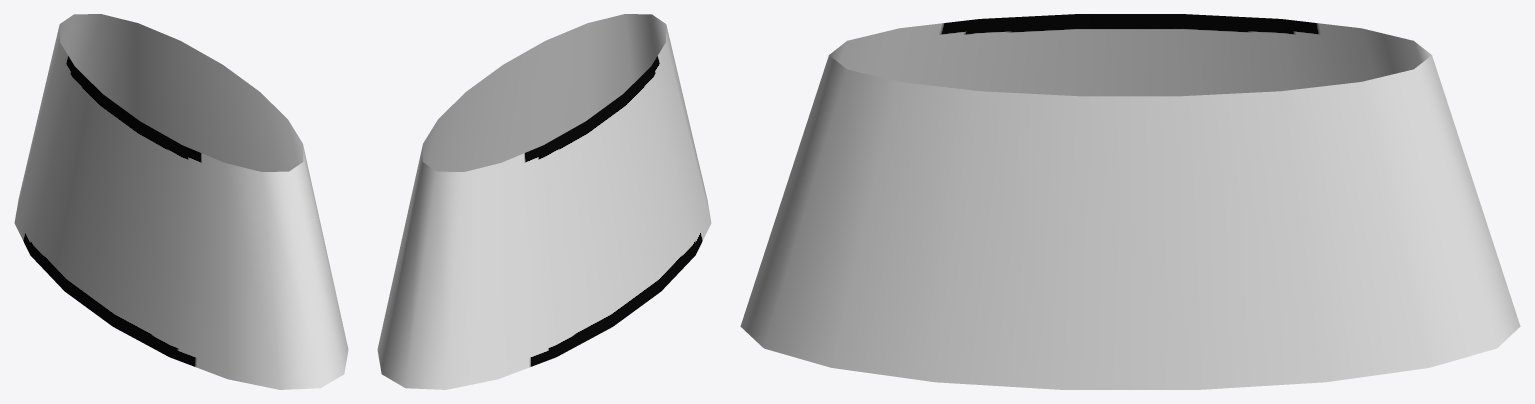
File: Instrument Summoning Glow.fbx
3 renders of one model, left to right at view 1: azimuth 30°, elevation 25°; view 2: azimuth 150°, elevation 25°; view 3: azimuth 270°, elevation 25°, orthographic. The views are drawn at different scales.
Parts seen in each view (by area): view 1: Instrument Summing Glow; view 2: Instrument Summing Glow; view 3: Instrument Summing Glow.
Boxes of the visible parts, x1,y1,x2,y2 form: Instrument Summing Glow: [14, 14, 348, 389]; Instrument Summing Glow: [377, 14, 711, 389]; Instrument Summing Glow: [740, 14, 1520, 389].
Size of the model in its own units: 2.01 by 2 by 5.21.
